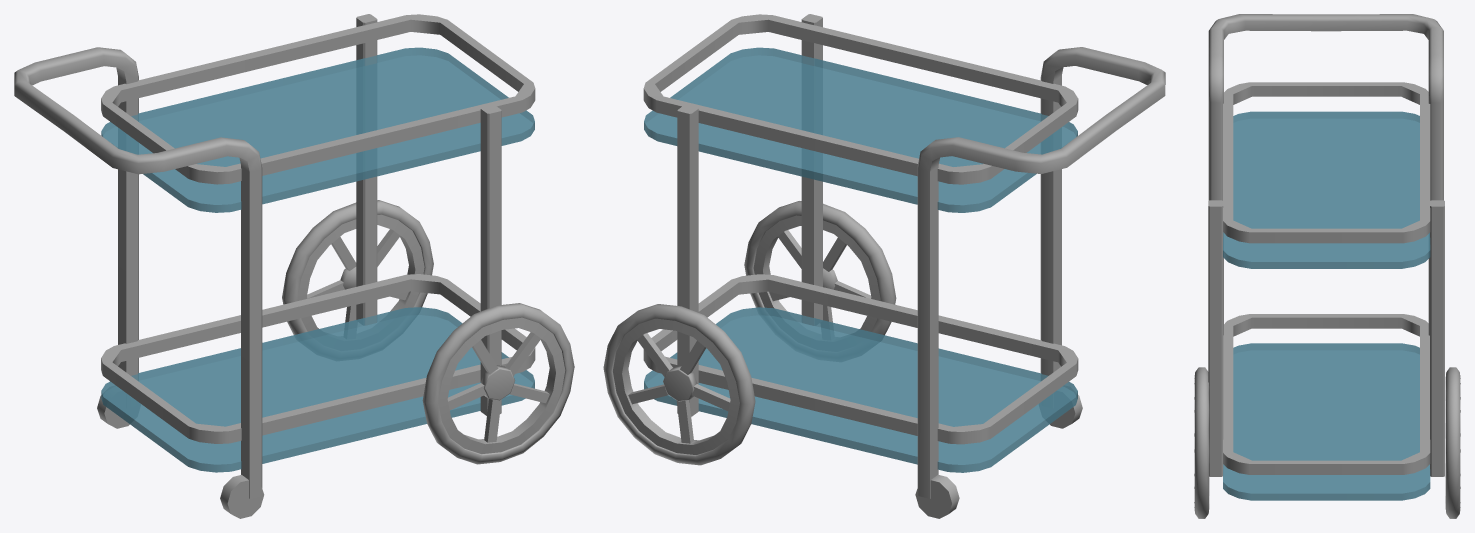
Rendered from ServingCart.fbx.
3 renders of one model, left to right at view 1: azimuth 30°, elevation 25°; view 2: azimuth 150°, elevation 25°; view 3: azimuth 270°, elevation 25°, orthographic. The views are drawn at different scales.
Visible parts, largest first — view 1: pCube91; view 2: pCube91; view 3: pCube91.
Boxes of the visible parts, x1,y1,x2,y2 form: pCube91: [14, 14, 574, 518]; pCube91: [603, 14, 1165, 518]; pCube91: [1194, 14, 1460, 518].
Bounding box in the file's own units: 104 × 86.39 × 61.27.
